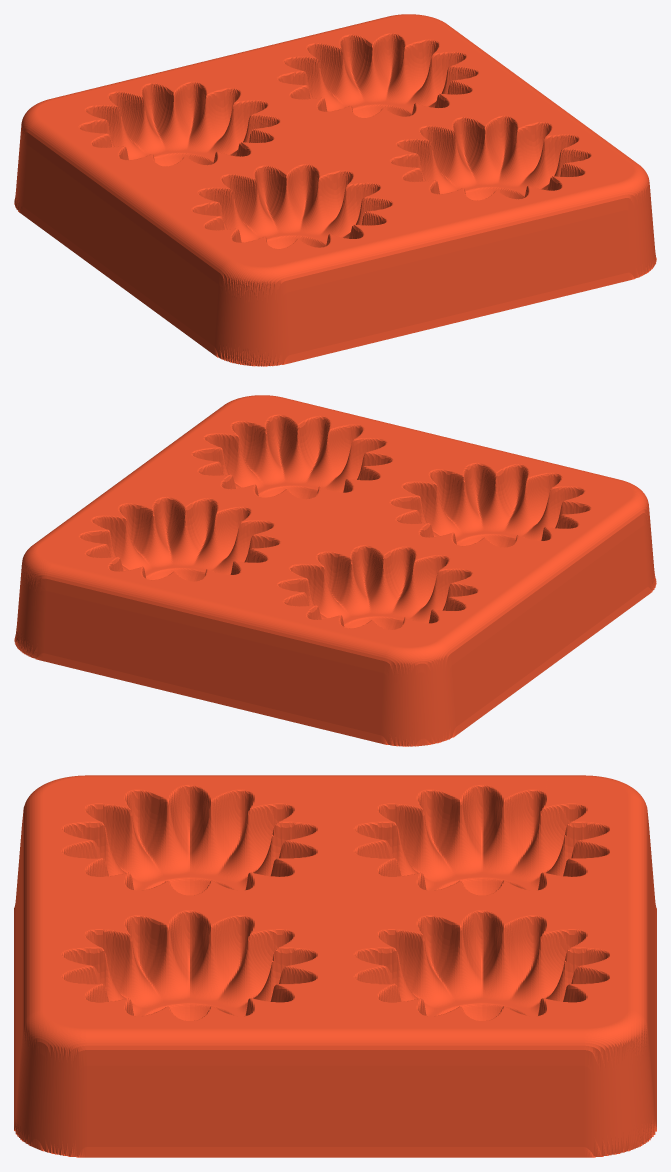
The model's file is mold.glb.
The picture shows the model from 3 angles, top to bottom: view 1: azimuth 30°, elevation 25°; view 2: azimuth 150°, elevation 25°; view 3: azimuth 270°, elevation 25°; orthographic projection. The views are drawn at different scales.
Visible parts, largest first — view 1: geometry_0; view 2: geometry_0; view 3: geometry_0.
Part boxes in pixels (left/top/right/bottom): geometry_0: left=14, top=14, right=656, bottom=366; geometry_0: left=14, top=395, right=656, bottom=746; geometry_0: left=14, top=775, right=656, bottom=1157.
Size of the model in its own units: 0.0808 by 0.0159 by 0.0796.
